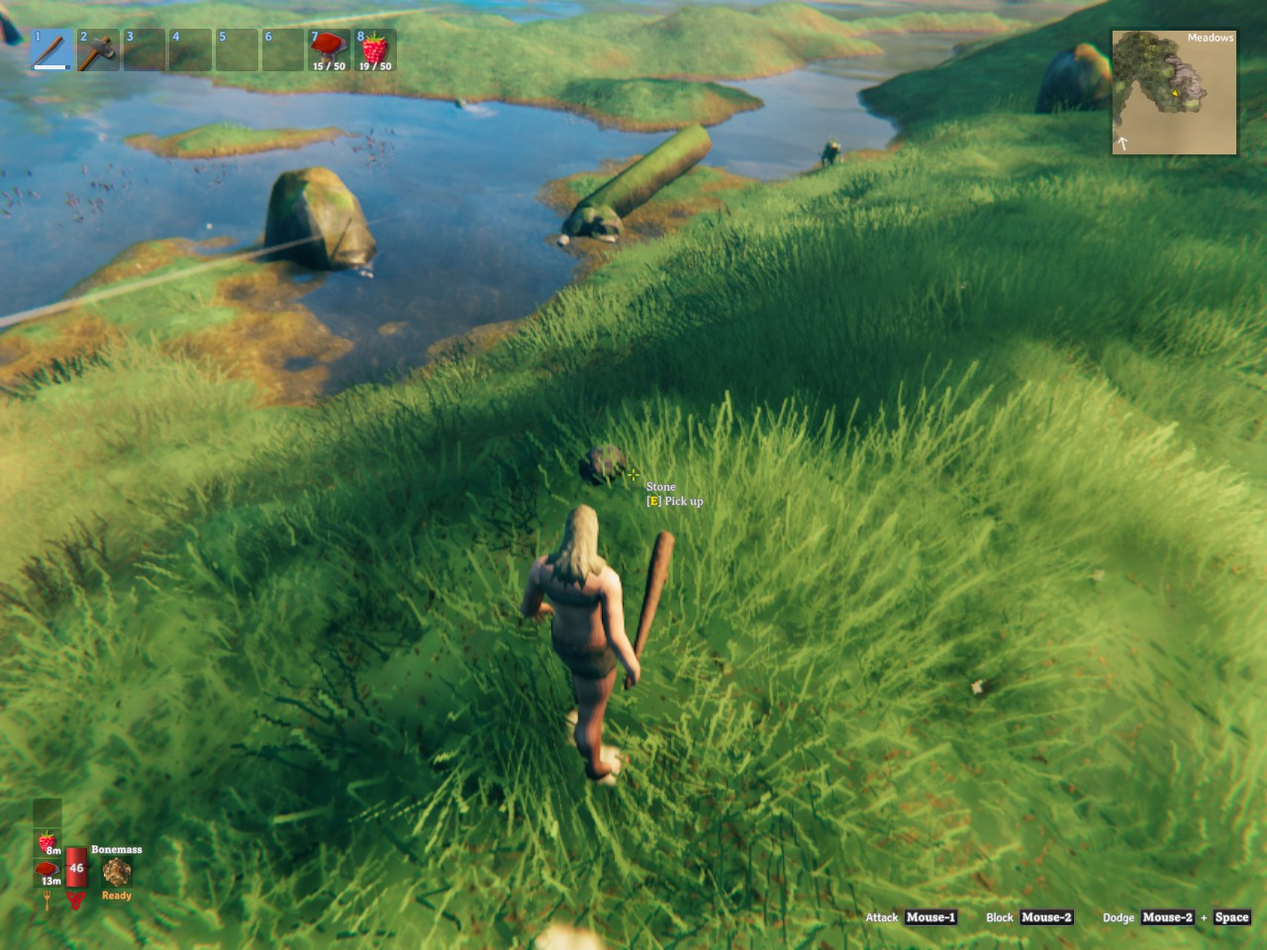Flint: (558, 236, 568, 245)
Neck: (821, 139, 840, 166)
Stone: (579, 444, 627, 484)
